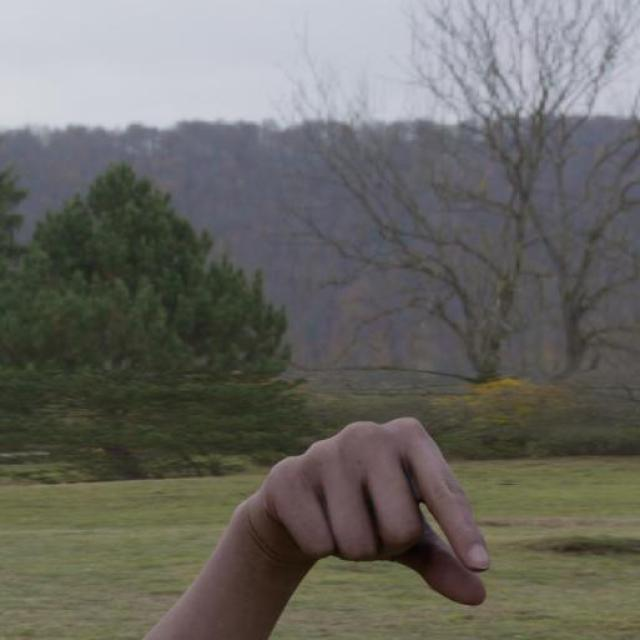Q: (252, 410, 499, 611)
